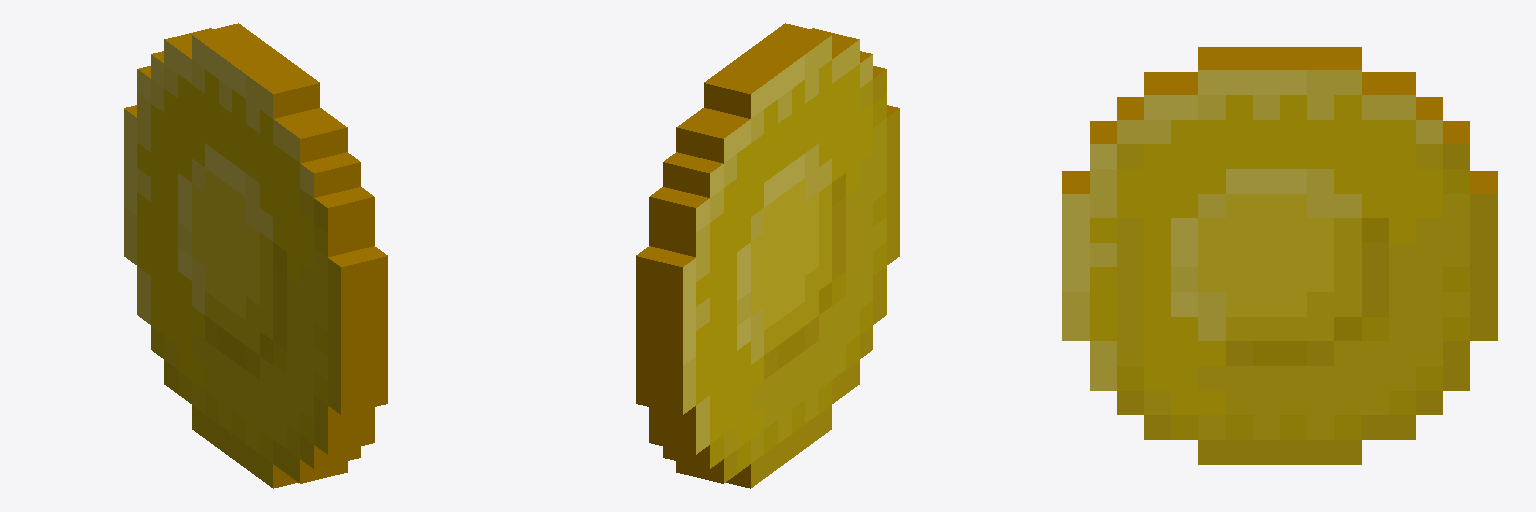
The picture shows the model from 3 angles: view 1: azimuth 30°, elevation 25°; view 2: azimuth 150°, elevation 25°; view 3: azimuth 270°, elevation 25°; orthographic projection.
Parts seen in each view (by area): view 1: cube; view 2: cube; view 3: cube.
Boxes of the visible parts, box(x1,y1,x2,y2) form: cube: box(124, 23, 387, 488); cube: box(636, 23, 899, 488); cube: box(1062, 47, 1497, 464).
Bounding box in the file's own units: 0.125 × 1 × 1.
Materials: 1 (1 with a texture image).